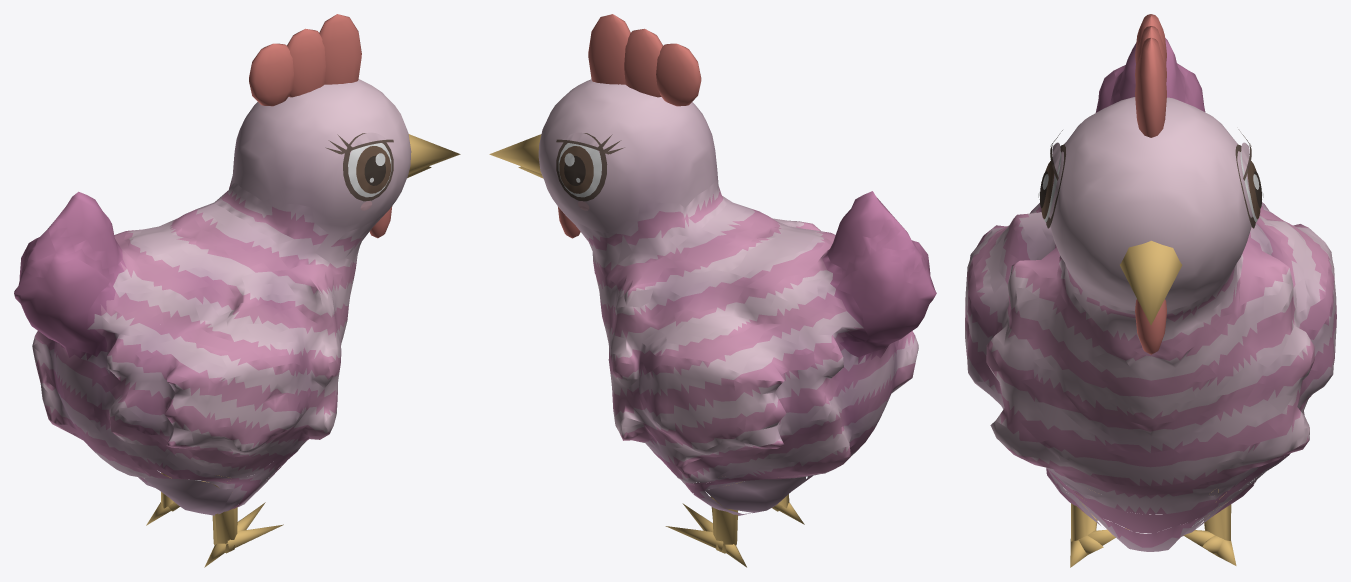
The model's file is bubblegum_chicken.glb.
3 views of the same model, side by side, from view 1: azimuth 30°, elevation 25°; view 2: azimuth 150°, elevation 25°; view 3: azimuth 270°, elevation 25° (orthographic). The views are drawn at different scales.
Parts seen in each view (by area): view 1: bubblegum_chicken; view 2: bubblegum_chicken; view 3: bubblegum_chicken.
Boxes of the visible parts, box(x1,y1,x2,y2) form: bubblegum_chicken: box(14, 14, 460, 567); bubblegum_chicken: box(489, 14, 936, 567); bubblegum_chicken: box(965, 14, 1336, 567).
Size of the model in its own units: 0.5326 by 0.5611 by 0.3072.
